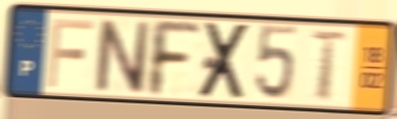5: (253, 22, 299, 106)
F: (148, 16, 204, 100), (45, 16, 96, 91)
N: (94, 16, 151, 96)
T: (308, 28, 351, 104)
X: (195, 20, 254, 101)
